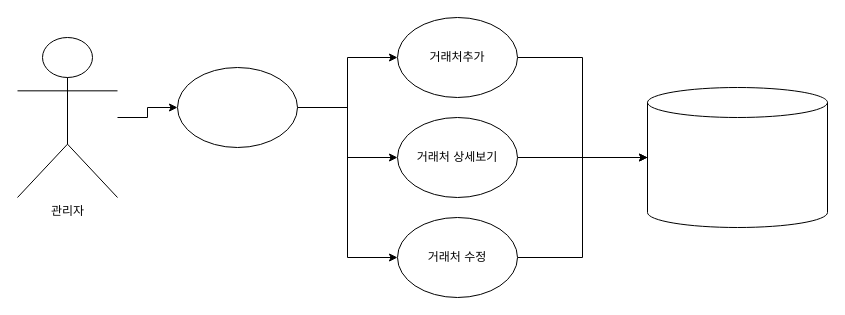
The diagram is 845 pixels wide and 315 high, and some of its shapes have lost their labels. The centre of each missing label's shape, as x and y in pixels:
거래처리스트보기: point 237,107
거리처 정보 Table: point 737,157
